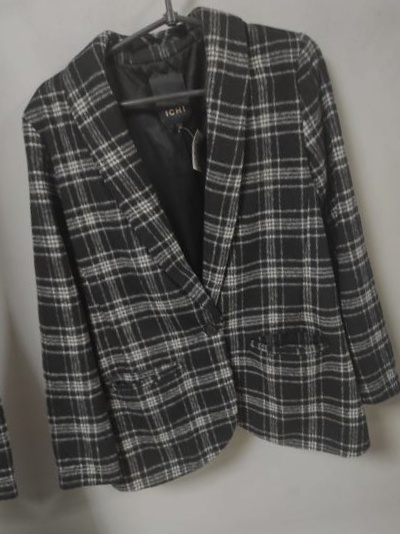Blazer: (0, 0, 400, 519), (0, 57, 34, 534)
